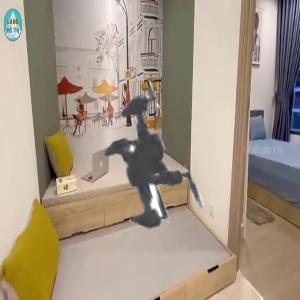drone: (8, 40, 267, 299)
